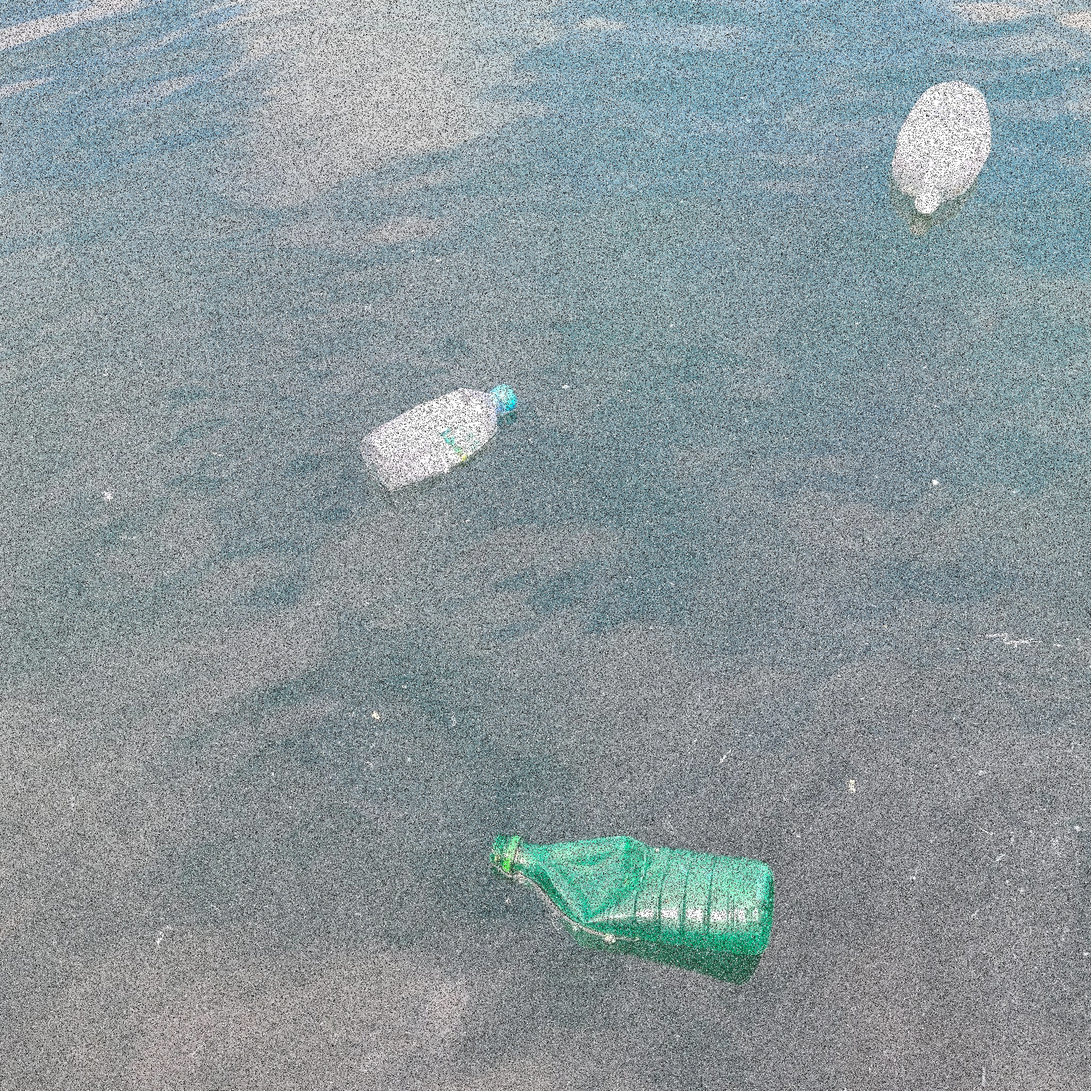sampah_terapung: (489, 833, 775, 956), (360, 383, 518, 491), (892, 80, 992, 215)
